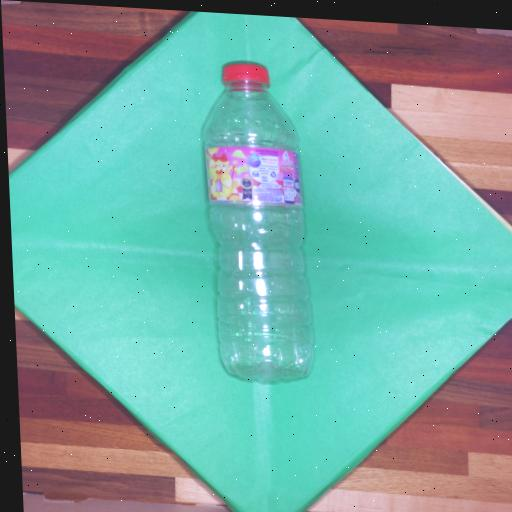bottle: (190, 49, 321, 396)
